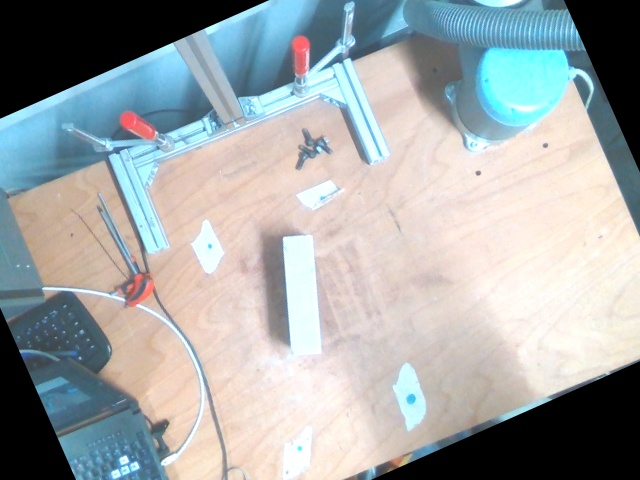brick-side: (282, 234, 322, 354)
